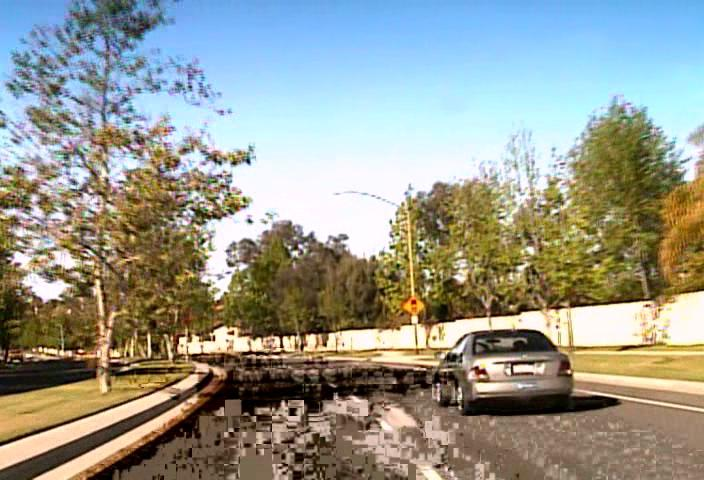signalAhead: (401, 295, 426, 316)
